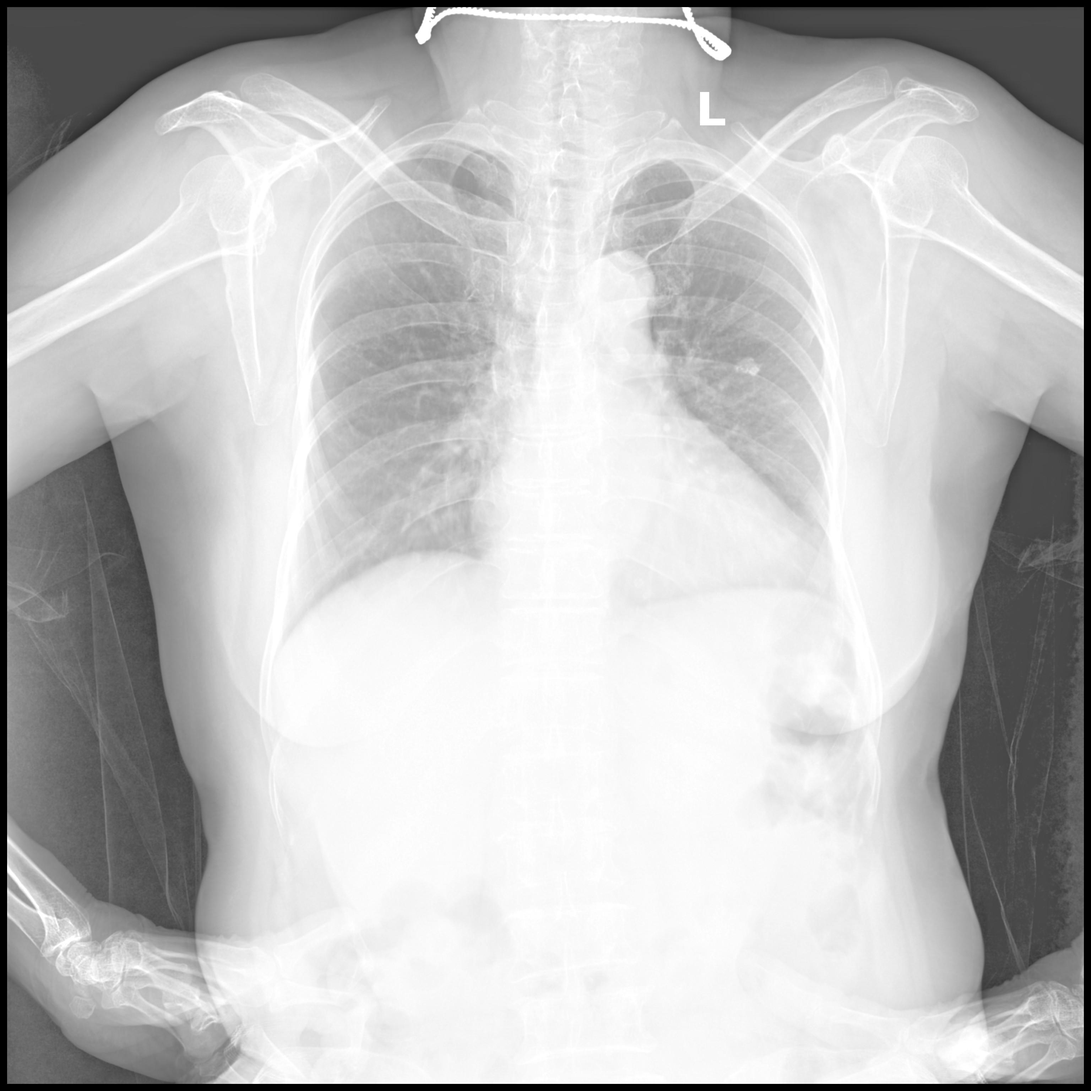Aortic enlargement: (570, 250, 657, 331)
Cardiomegaly: (468, 474, 831, 604)
Pleural thickening: (593, 156, 660, 254)
